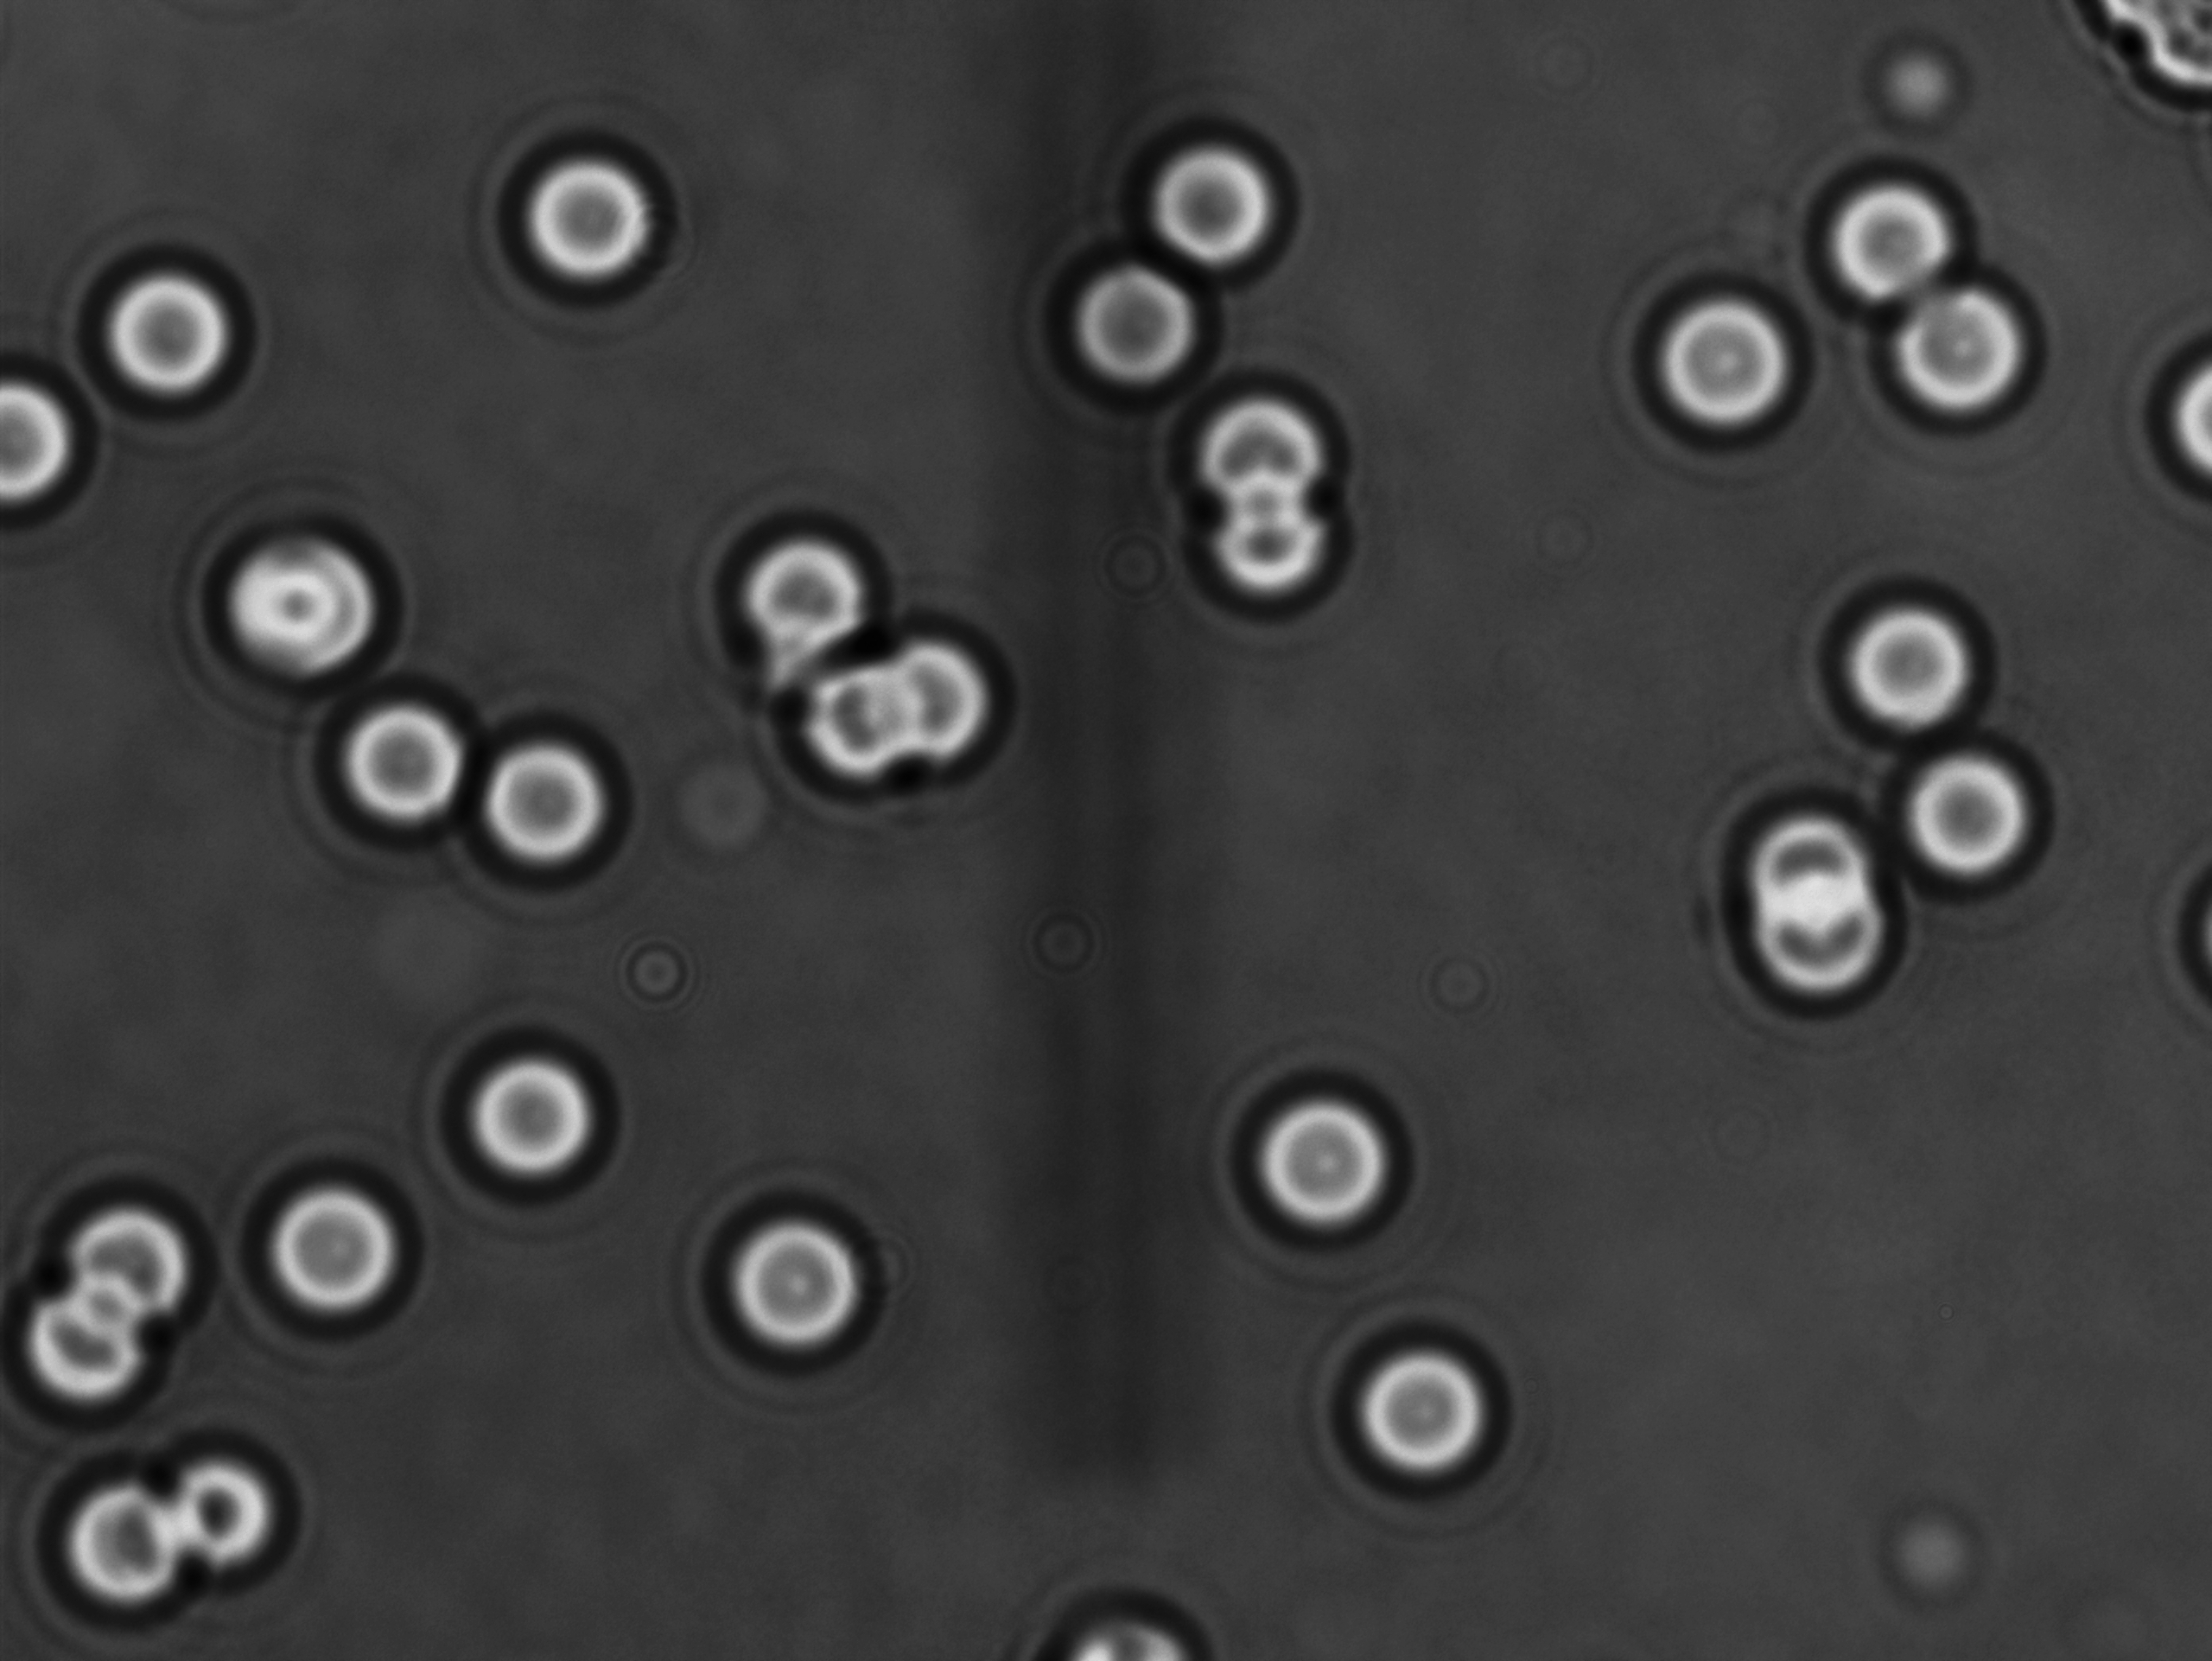depth:60: (1317, 1293, 1526, 1514), (1223, 1043, 1436, 1251), (291, 642, 499, 850), (65, 223, 270, 429), (183, 499, 394, 700), (433, 1003, 635, 1209), (1884, 710, 2085, 918), (1795, 572, 2013, 759), (223, 1148, 424, 1349), (1874, 253, 2071, 445), (1633, 263, 1825, 459), (497, 127, 694, 314), (1122, 105, 1324, 283), (1036, 218, 1233, 400), (696, 1185, 893, 1364), (147, 1387, 319, 1589), (26, 1446, 206, 1638), (1174, 351, 1371, 523), (705, 497, 891, 675), (462, 710, 647, 888), (1799, 154, 1978, 328)
